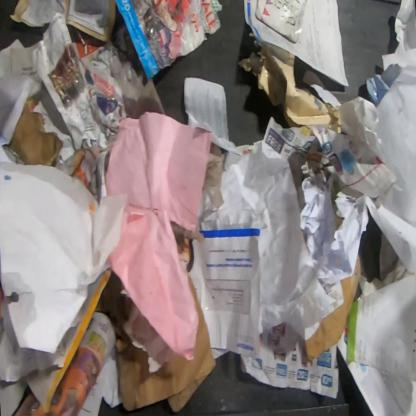cardboard: (238, 38, 342, 134), (303, 252, 362, 362), (255, 0, 308, 44), (366, 73, 390, 107)
